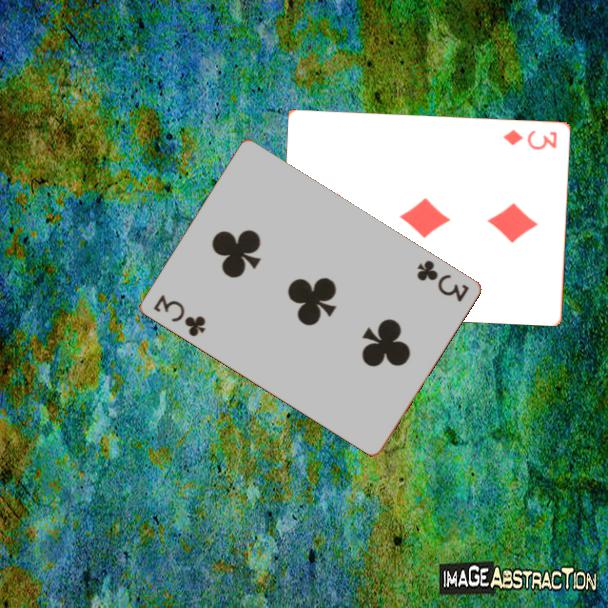c03: (149, 291, 208, 340), (413, 256, 472, 305)
d03: (500, 126, 560, 152)
